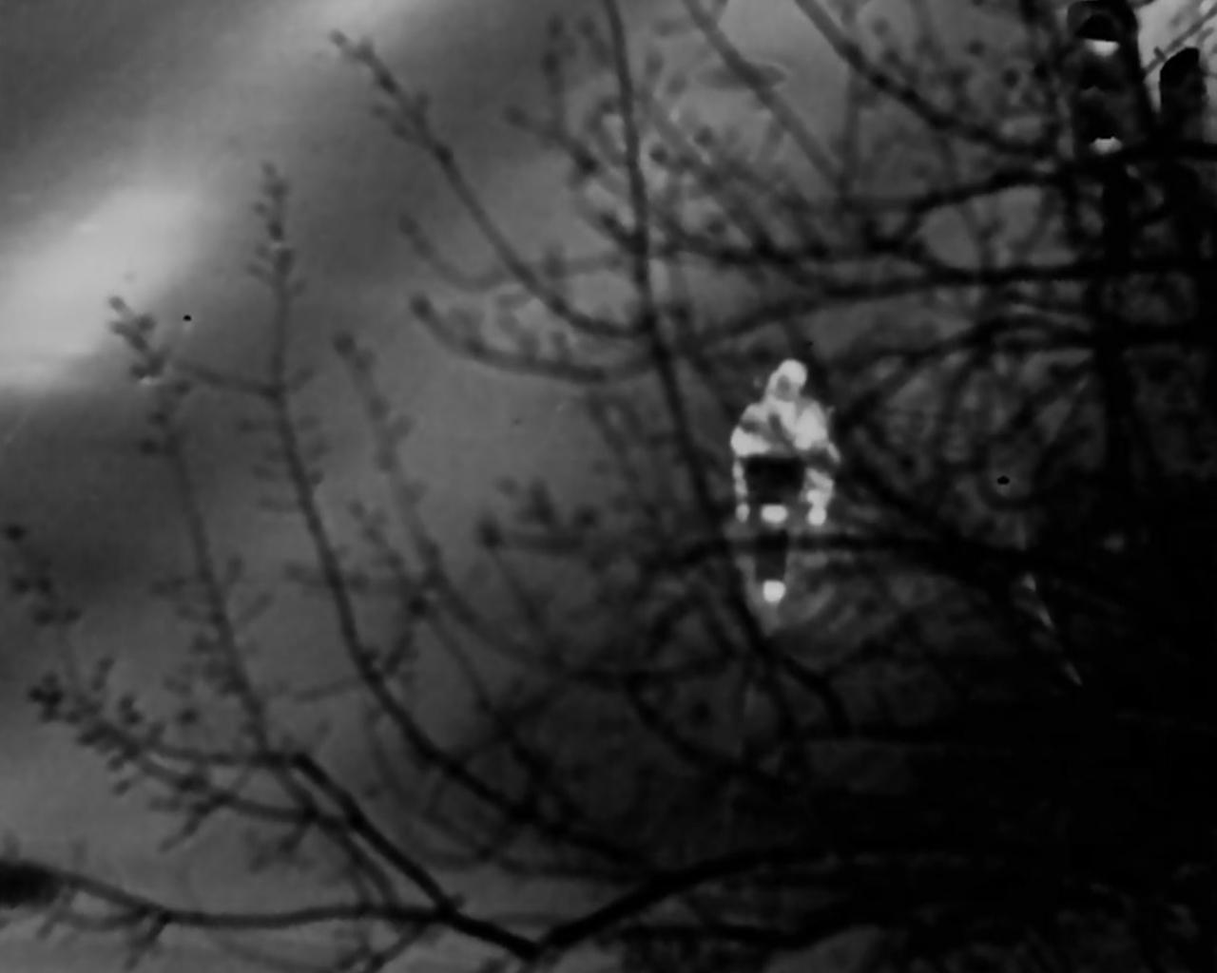person: (739, 362, 848, 563)
